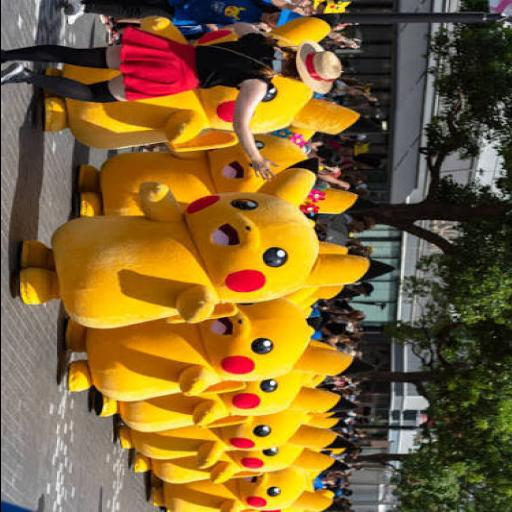Pikachu: (20, 159, 394, 323), (37, 12, 387, 134), (64, 285, 374, 402), (78, 124, 386, 217), (90, 368, 361, 431), (115, 404, 357, 460), (146, 466, 350, 511), (130, 444, 348, 484)
